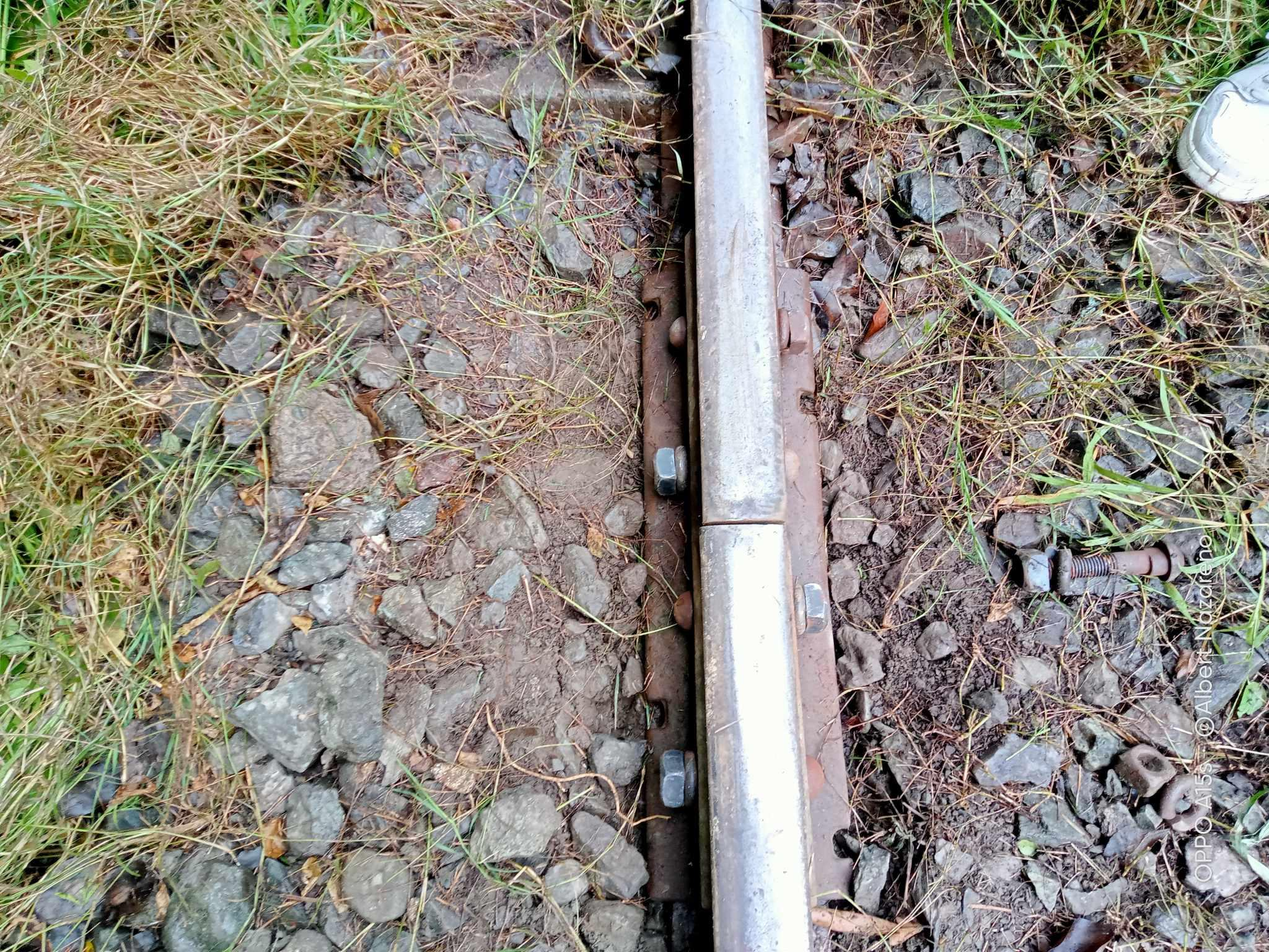railway-gap: (674, 457, 813, 597)
